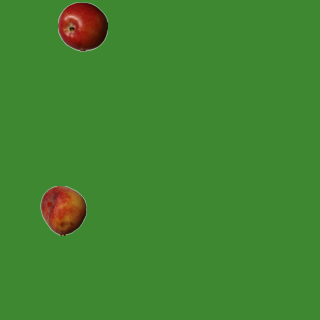Apple Braeburn: (57, 1, 107, 51)
Peach: (38, 185, 88, 235)
